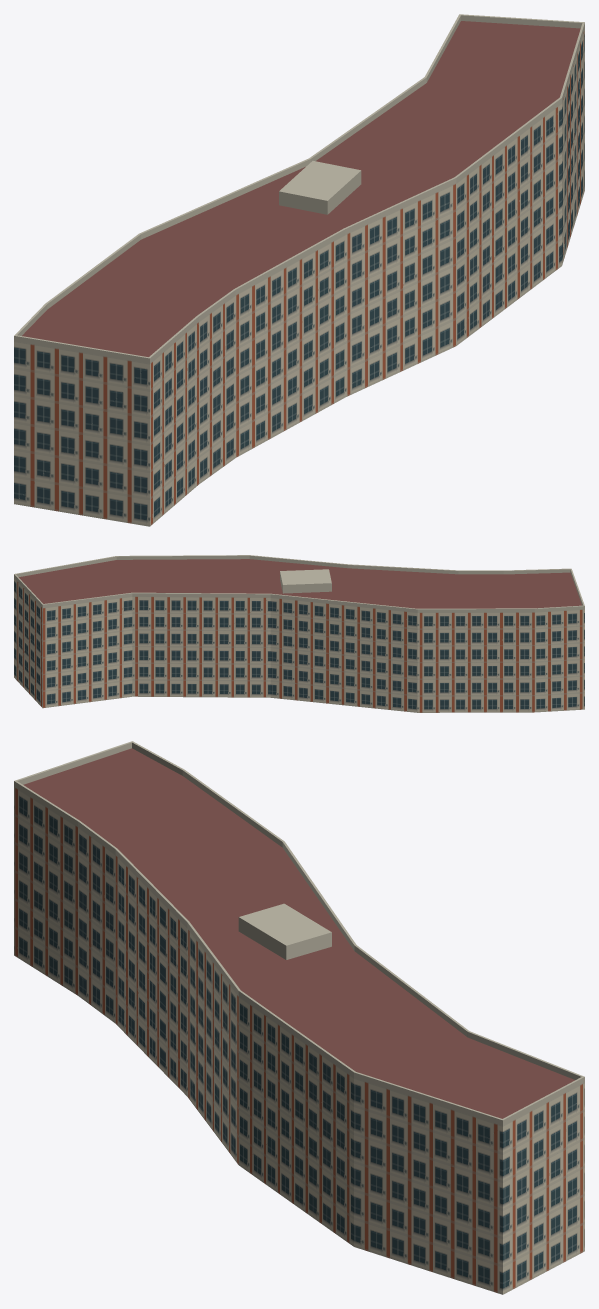
3 renders of one model, top to bottom at view 1: azimuth 30°, elevation 25°; view 2: azimuth 150°, elevation 25°; view 3: azimuth 270°, elevation 25°, orthographic. The views are drawn at different scales.
Visible parts, largest first — view 1: B10_dorm, B10_dorm_parapet, B10_dorm_plant; view 2: B10_dorm, B10_dorm_parapet, B10_dorm_plant; view 3: B10_dorm, B10_dorm_parapet, B10_dorm_plant.
Boxes of the visible parts, x1,y1,x2,y2 form: B10_dorm: (14, 21, 584, 526); B10_dorm_parapet: (14, 14, 584, 363); B10_dorm_plant: (279, 161, 361, 214); B10_dorm: (14, 559, 584, 712); B10_dorm_parapet: (14, 555, 584, 612); B10_dorm_plant: (280, 569, 331, 593); B10_dorm: (14, 748, 584, 1294); B10_dorm_parapet: (14, 741, 584, 1125); B10_dorm_plant: (238, 903, 331, 959).
Size of the model in its own units: 113 by 25.4 by 71.76.
Materials: 3 (1 with a texture image).
